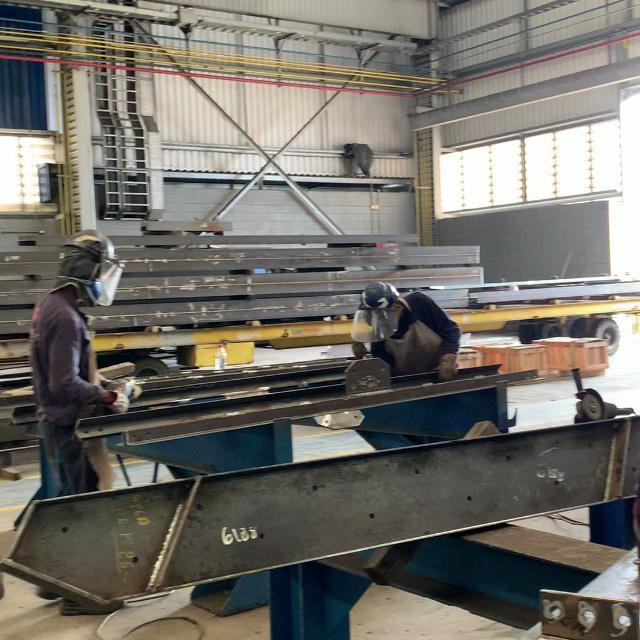eye-glass: (349, 308, 400, 344), (95, 260, 129, 305)
face-shield: (430, 353, 460, 382), (110, 391, 127, 414), (125, 380, 141, 400)
glove: (361, 283, 406, 315), (59, 229, 116, 247)
mask: (29, 230, 144, 481), (351, 282, 459, 381)
safety-shoe: (61, 598, 123, 616)
